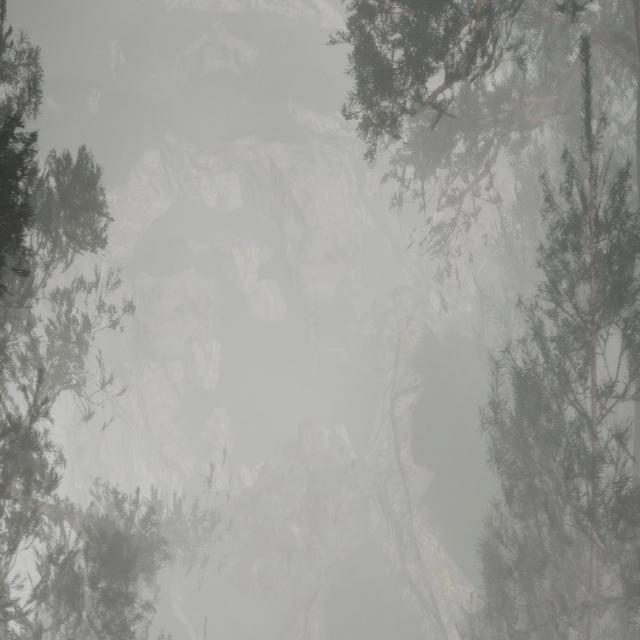Human: (293, 291, 325, 398)
